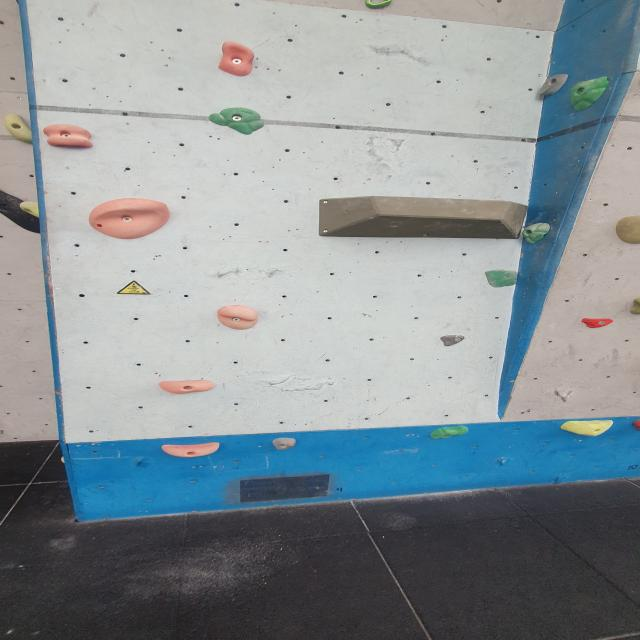Crimp: (208, 108, 266, 134), (161, 442, 223, 460), (561, 418, 616, 436), (158, 381, 216, 395), (426, 425, 475, 440), (522, 222, 550, 244), (580, 317, 614, 329)
Jug: (215, 41, 256, 77), (44, 124, 96, 150), (216, 306, 260, 331), (614, 217, 640, 247), (19, 201, 45, 217)
Pinch: (568, 77, 612, 114), (0, 112, 40, 146), (484, 270, 520, 290), (271, 439, 297, 453)
Sloper: (88, 200, 174, 242)
